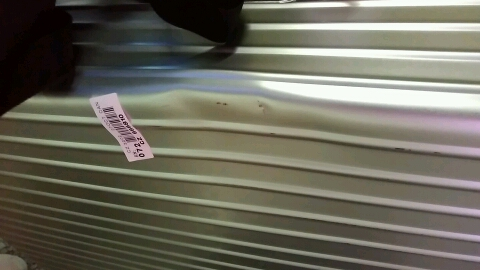rupture: (151, 89, 281, 175)
